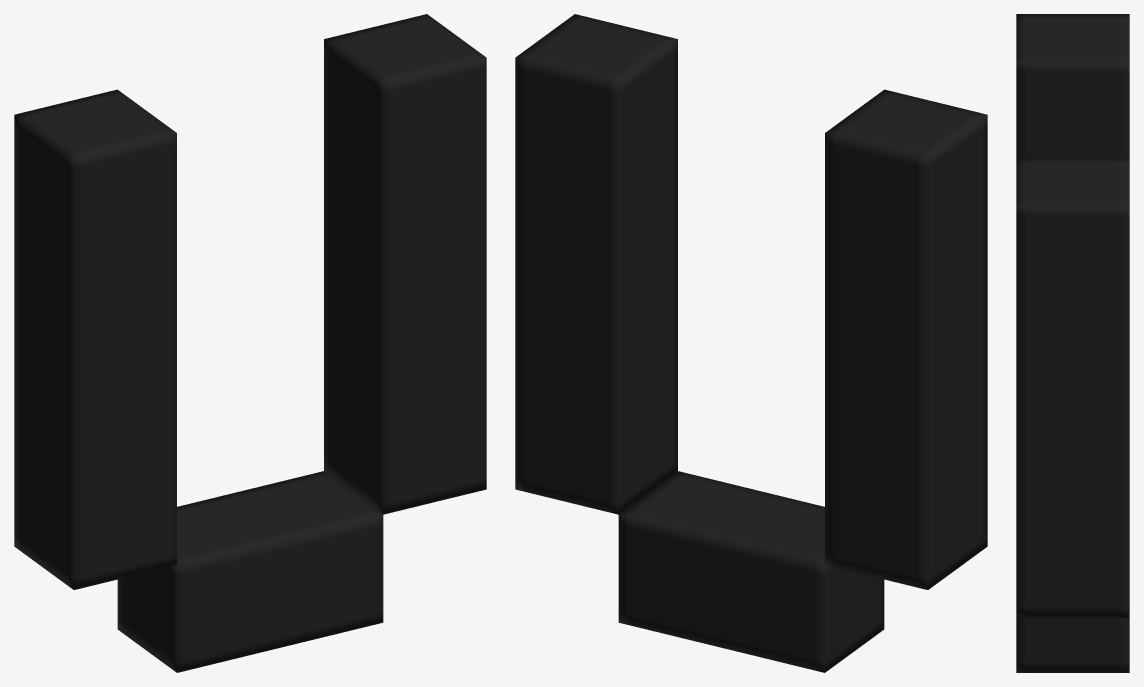
File: font_u.glb
The picture shows the model from 3 angles, left to right: view 1: azimuth 30°, elevation 25°; view 2: azimuth 150°, elevation 25°; view 3: azimuth 270°, elevation 25°; orthographic projection. The views are drawn at different scales.
Parts seen in each view (by area): view 1: letter_u; view 2: letter_u; view 3: letter_u.
Part boxes in pixels (x1,y1,x2,y2): letter_u: [14, 14, 486, 672]; letter_u: [515, 14, 987, 672]; letter_u: [1016, 14, 1129, 672].
Size of the model in its own units: 0.8 by 1 by 0.2.
1 material, 1 textured.
